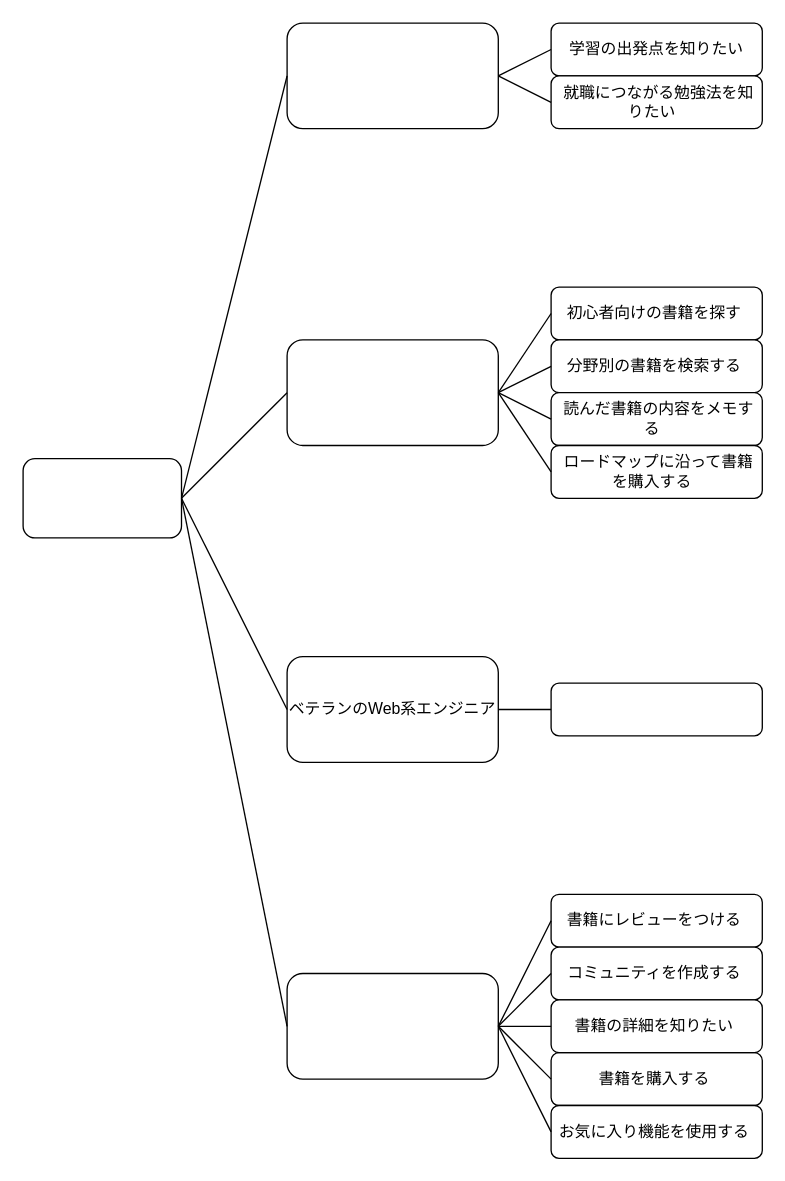
Image size: 785x1181. Some labels were removed from this diagram. Here are the shapes that lost their labels. From the top down, the centre of each, then its label:
(392,75): Web系エンジニアを目指す学生
(392,392): 駆け出しのWeb系エンジニア
(102,497): ユーザーストーリー
(656,709): 最新の技術の書籍を購入する
(392,1025): Web系エンジニア全般
